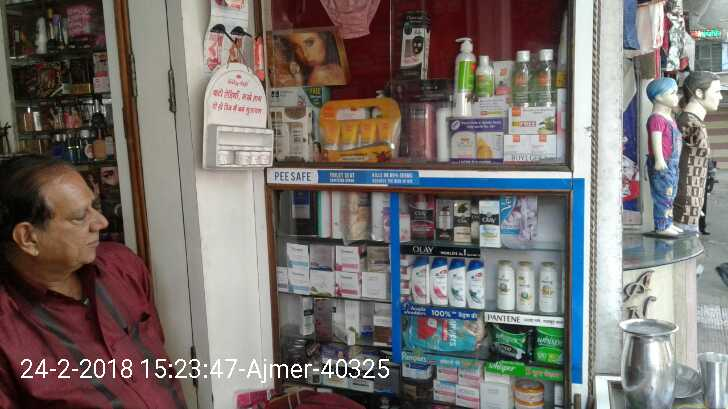venus: (499, 195, 539, 246)
